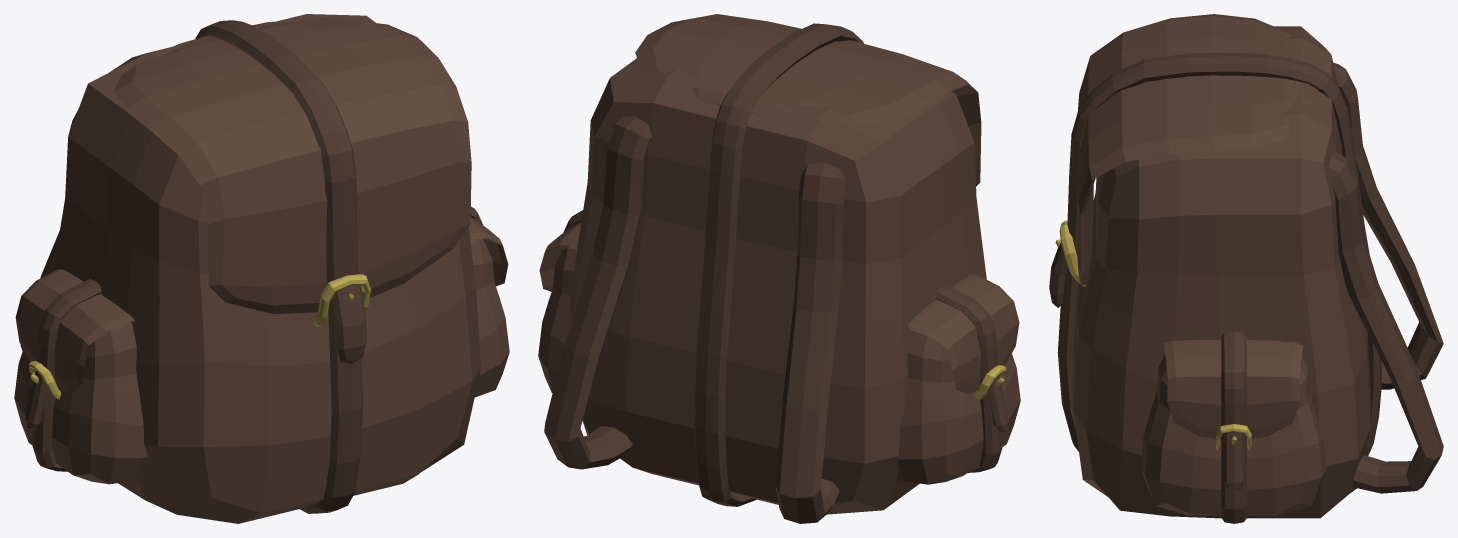
Rendered from schoolbag.glb.
3 renders of one model, left to right at view 1: azimuth 30°, elevation 25°; view 2: azimuth 150°, elevation 25°; view 3: azimuth 270°, elevation 25°, orthographic. The views are drawn at different scales.
Visible parts, largest first — view 1: Backpack; view 2: Backpack; view 3: Backpack.
Boxes of the visible parts, x1,y1,x2,y2 form: Backpack: [14, 14, 509, 523]; Backpack: [538, 14, 1020, 523]; Backpack: [1049, 14, 1443, 523].
Size of the model in its own units: 0.4715 by 0.42 by 0.3551.
